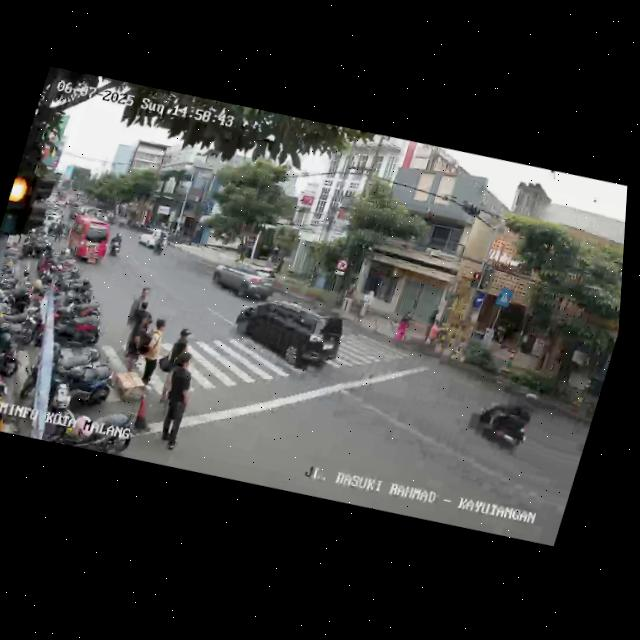car: (223, 288, 352, 385), (207, 253, 280, 307), (60, 211, 117, 268), (135, 223, 169, 253)
motorcycle: (458, 386, 540, 460), (106, 230, 127, 258)
person: (148, 353, 203, 454), (131, 315, 174, 390), (156, 326, 193, 404), (116, 283, 151, 356), (122, 298, 151, 360), (418, 304, 441, 346), (336, 279, 358, 314), (393, 309, 413, 342), (356, 288, 374, 321)
